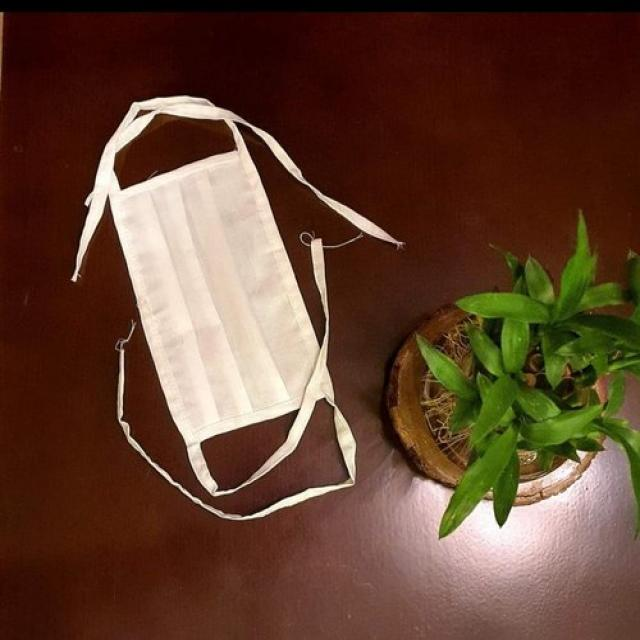face mask: (84, 88, 368, 522)
